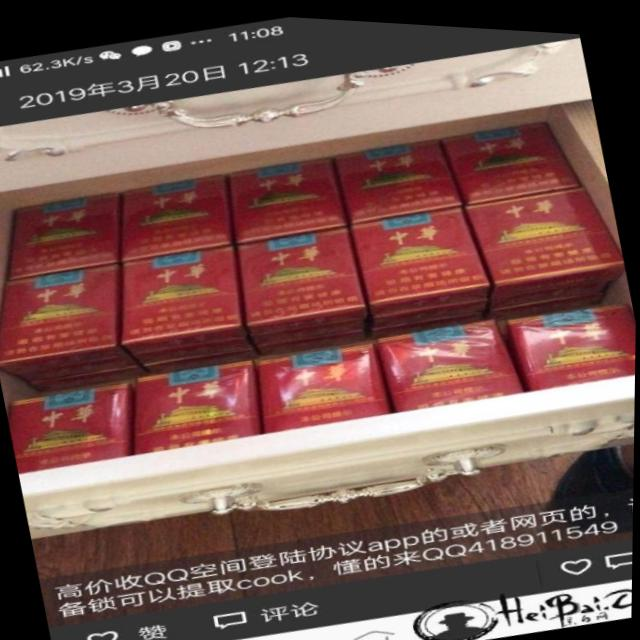box: (461, 177, 624, 292), (352, 198, 490, 311), (234, 219, 369, 332), (0, 260, 131, 374), (373, 312, 526, 407), (118, 242, 248, 353), (135, 355, 263, 453), (257, 338, 392, 430), (505, 292, 637, 386), (438, 114, 582, 199), (222, 150, 350, 243), (10, 380, 136, 473), (338, 133, 463, 220), (7, 189, 121, 280), (121, 171, 232, 261), (130, 331, 257, 365), (365, 292, 489, 323), (486, 274, 610, 303), (141, 344, 260, 374), (247, 313, 366, 343), (483, 285, 605, 314), (372, 303, 486, 334), (26, 364, 149, 392), (254, 324, 363, 354), (14, 355, 139, 381)
